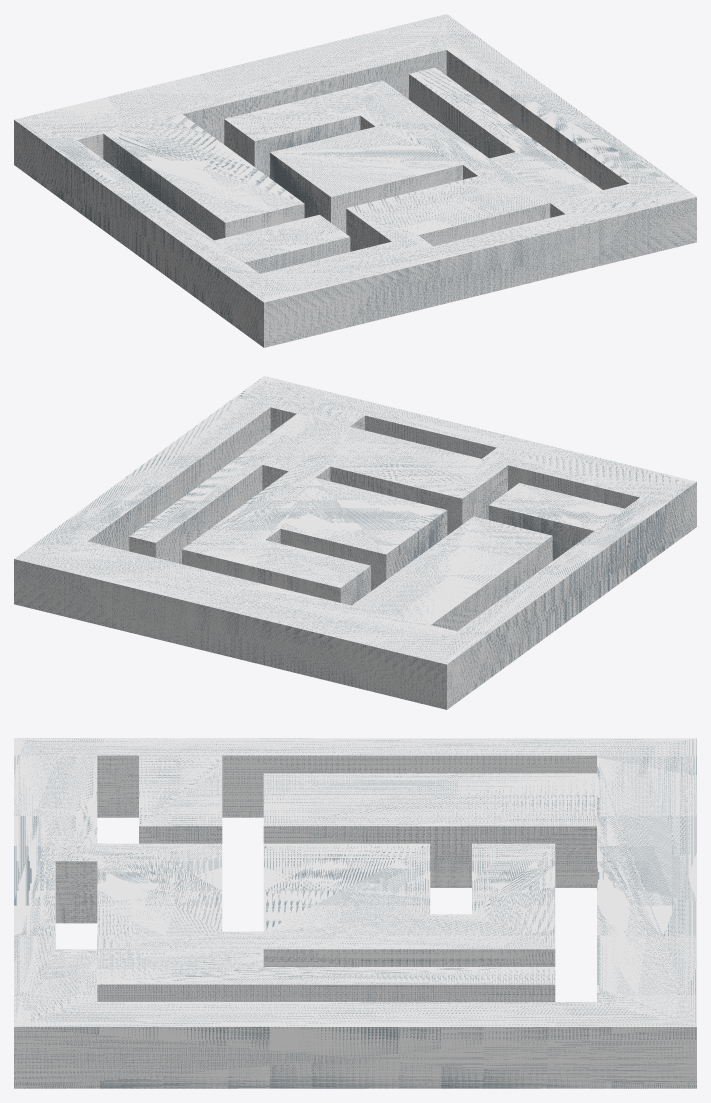
3 renders of one model, top to bottom at view 1: azimuth 30°, elevation 25°; view 2: azimuth 150°, elevation 25°; view 3: azimuth 270°, elevation 25°, orthographic. The views are drawn at different scales.
Visible parts, largest first — view 1: Model; view 2: Model; view 3: Model.
Part boxes in pixels (x1,y1,x2,y2): Model: [14, 14, 696, 347]; Model: [14, 376, 696, 709]; Model: [14, 738, 696, 1088].
Bounding box in the file's own units: 5 × 0.5 × 5.
